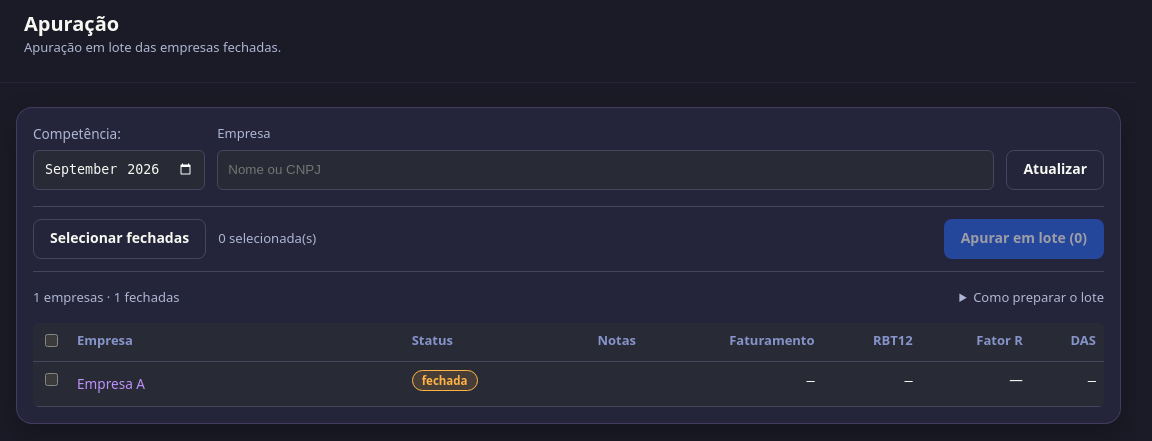
Scenario: trocar mês retira seleção da tela e mantém envio desabilitado até nova seleção
The image size is (1152, 441).
Check: the button "Empresa A" is shown, box [77,370,145,398]
Click the button "Selecionar fechadas" at (120, 239), box [33,219,206,259]
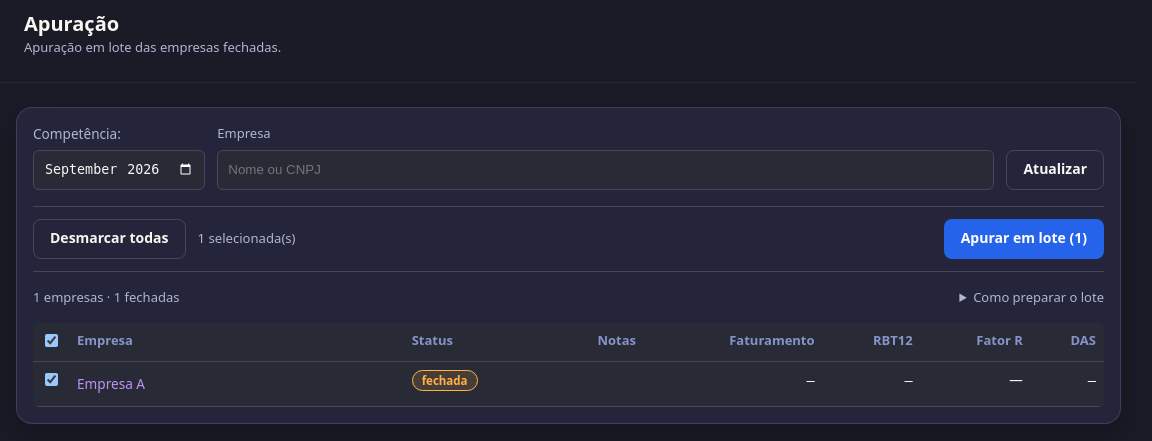
Check: the button "Apurar em lote (1)" is enabled, box [944,219,1104,259]
Replace the text in the field labelled "Competência:" with "2020-03" at (119, 170), box [33,150,205,190]
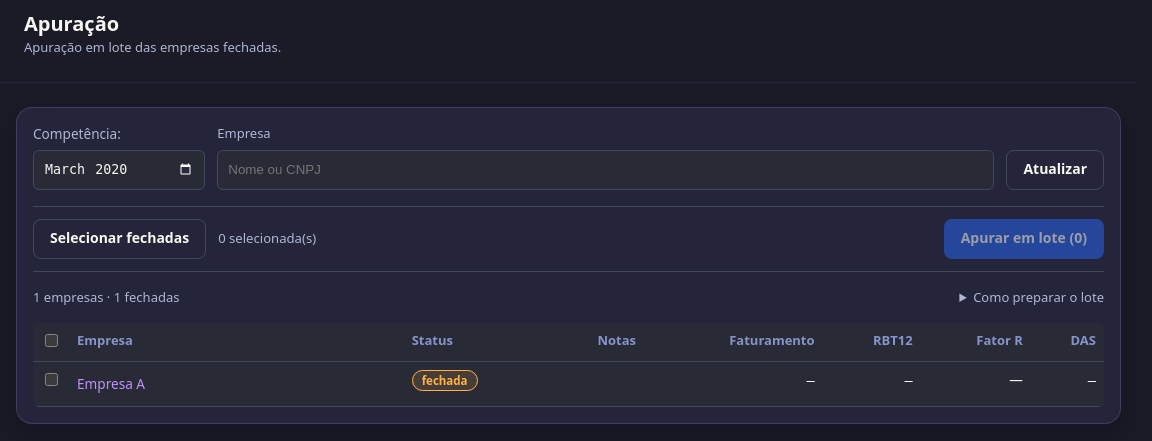
Check: the button "Apurar em lote (0)" is disabled, box [944,219,1104,259]
Click the button "Selecionar fechadas" at (120, 239), box [33,219,206,259]
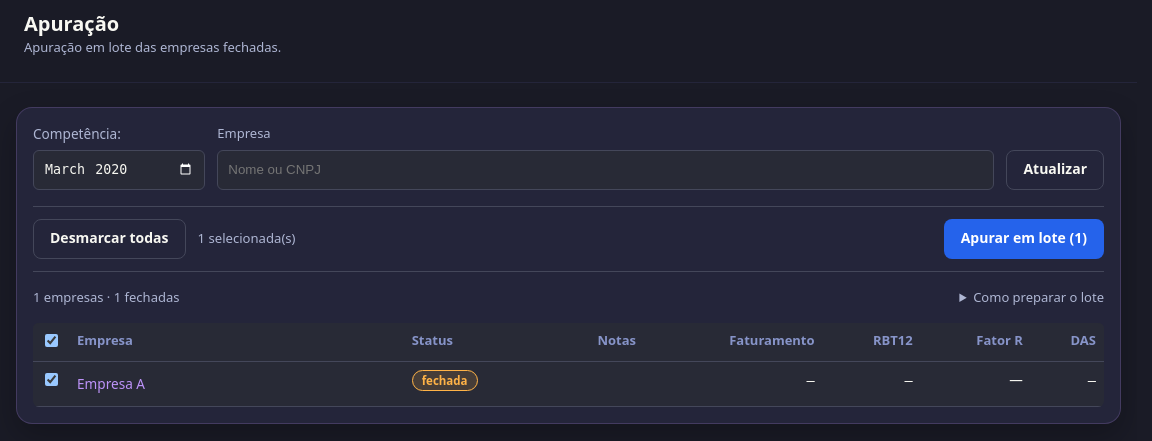
Check: the button "Apurar em lote (1)" is enabled, box [944,219,1104,259]
